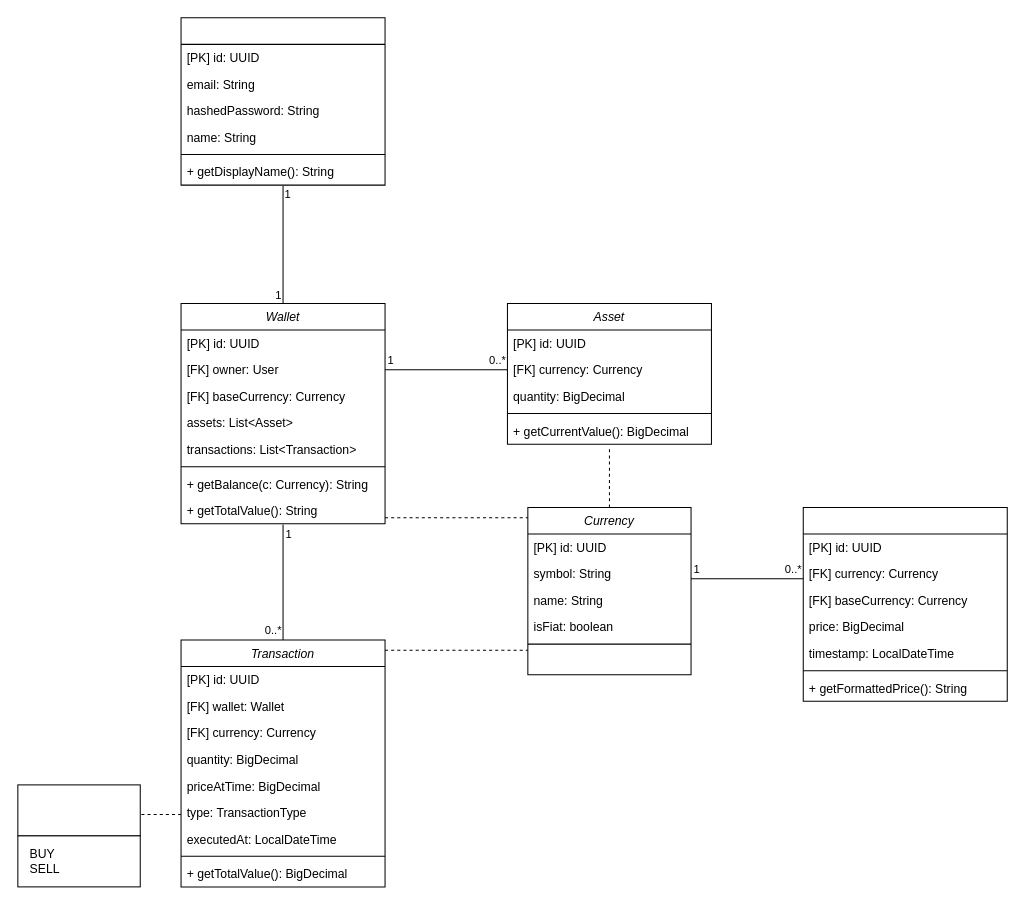
Image size: 1025x908. Some labels were removed from this diagram. The shapes that lost their labels are listed below. From the top down, each one's box as (x1, y1, x2, y2) in pixels, then its label:
(180, 17, 385, 185): User
(802, 506, 1007, 701): CurrencyQuote
(17, 784, 140, 836): «enumeration» TransactionType
